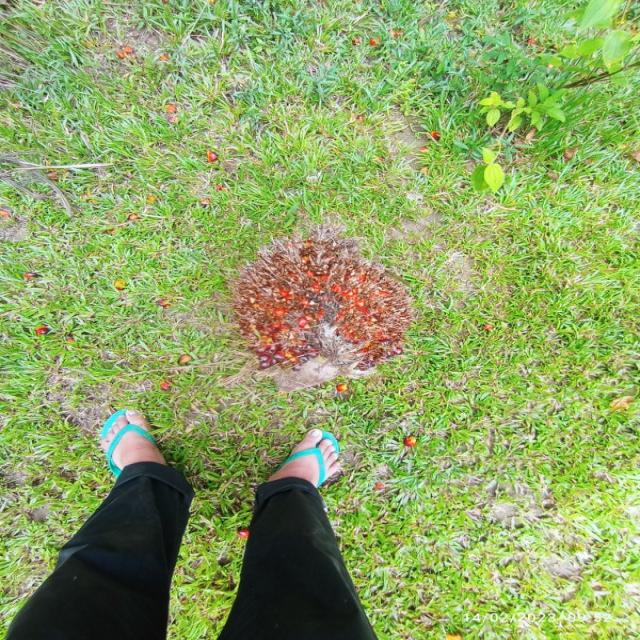fraksi 4: (145, 198, 472, 418)
